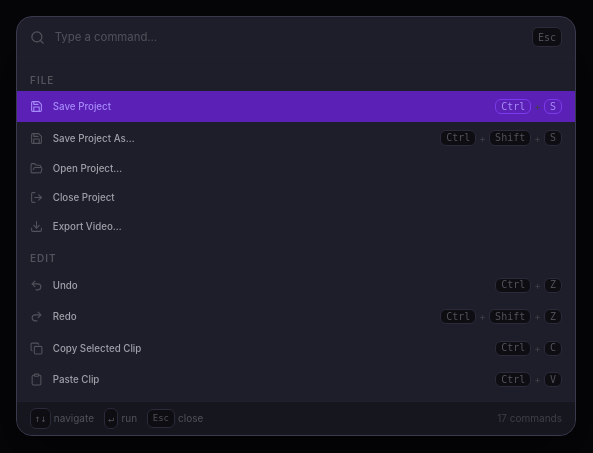
3.11 CommandPalette › shows "No commands found" when query matches nothing
The width and height of the screenshot is (593, 453).
Type "xyznonexistent" into the field with placeholder "Type a command…" at (289, 37), box top-left (55, 29), bottom-right (522, 45)
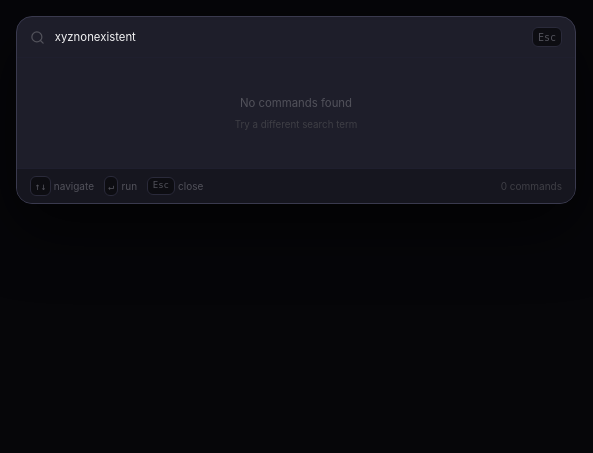
Check: the text "No commands found" is shown, box top-left (240, 95), bottom-right (352, 112)
